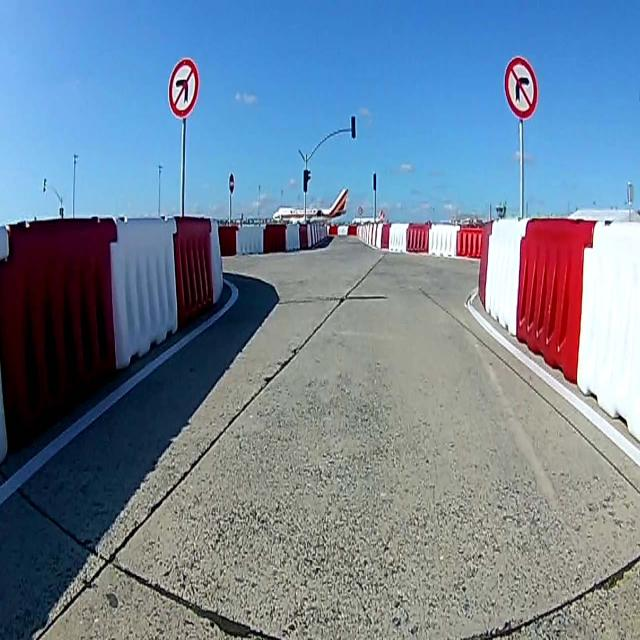sagadonulmez: (504, 58, 540, 120)
soladonulmez: (168, 58, 198, 114)
